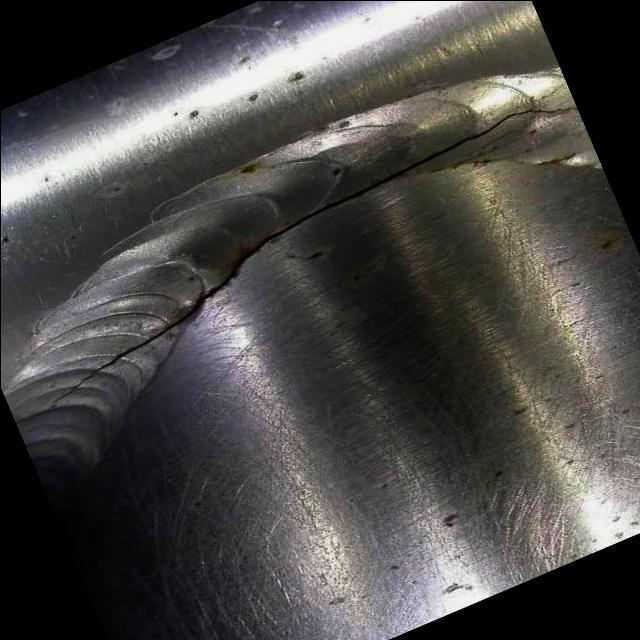defect: (37, 101, 575, 414)
